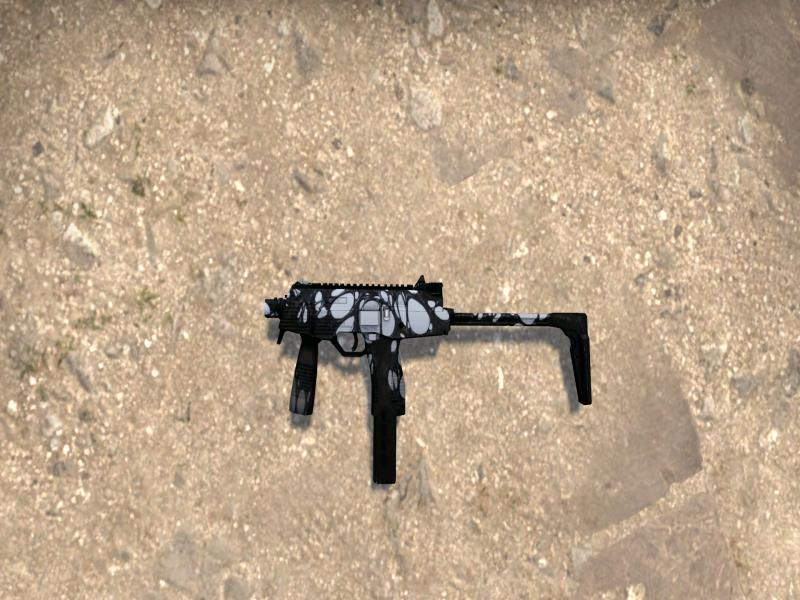MP9: (264, 276, 592, 483)
